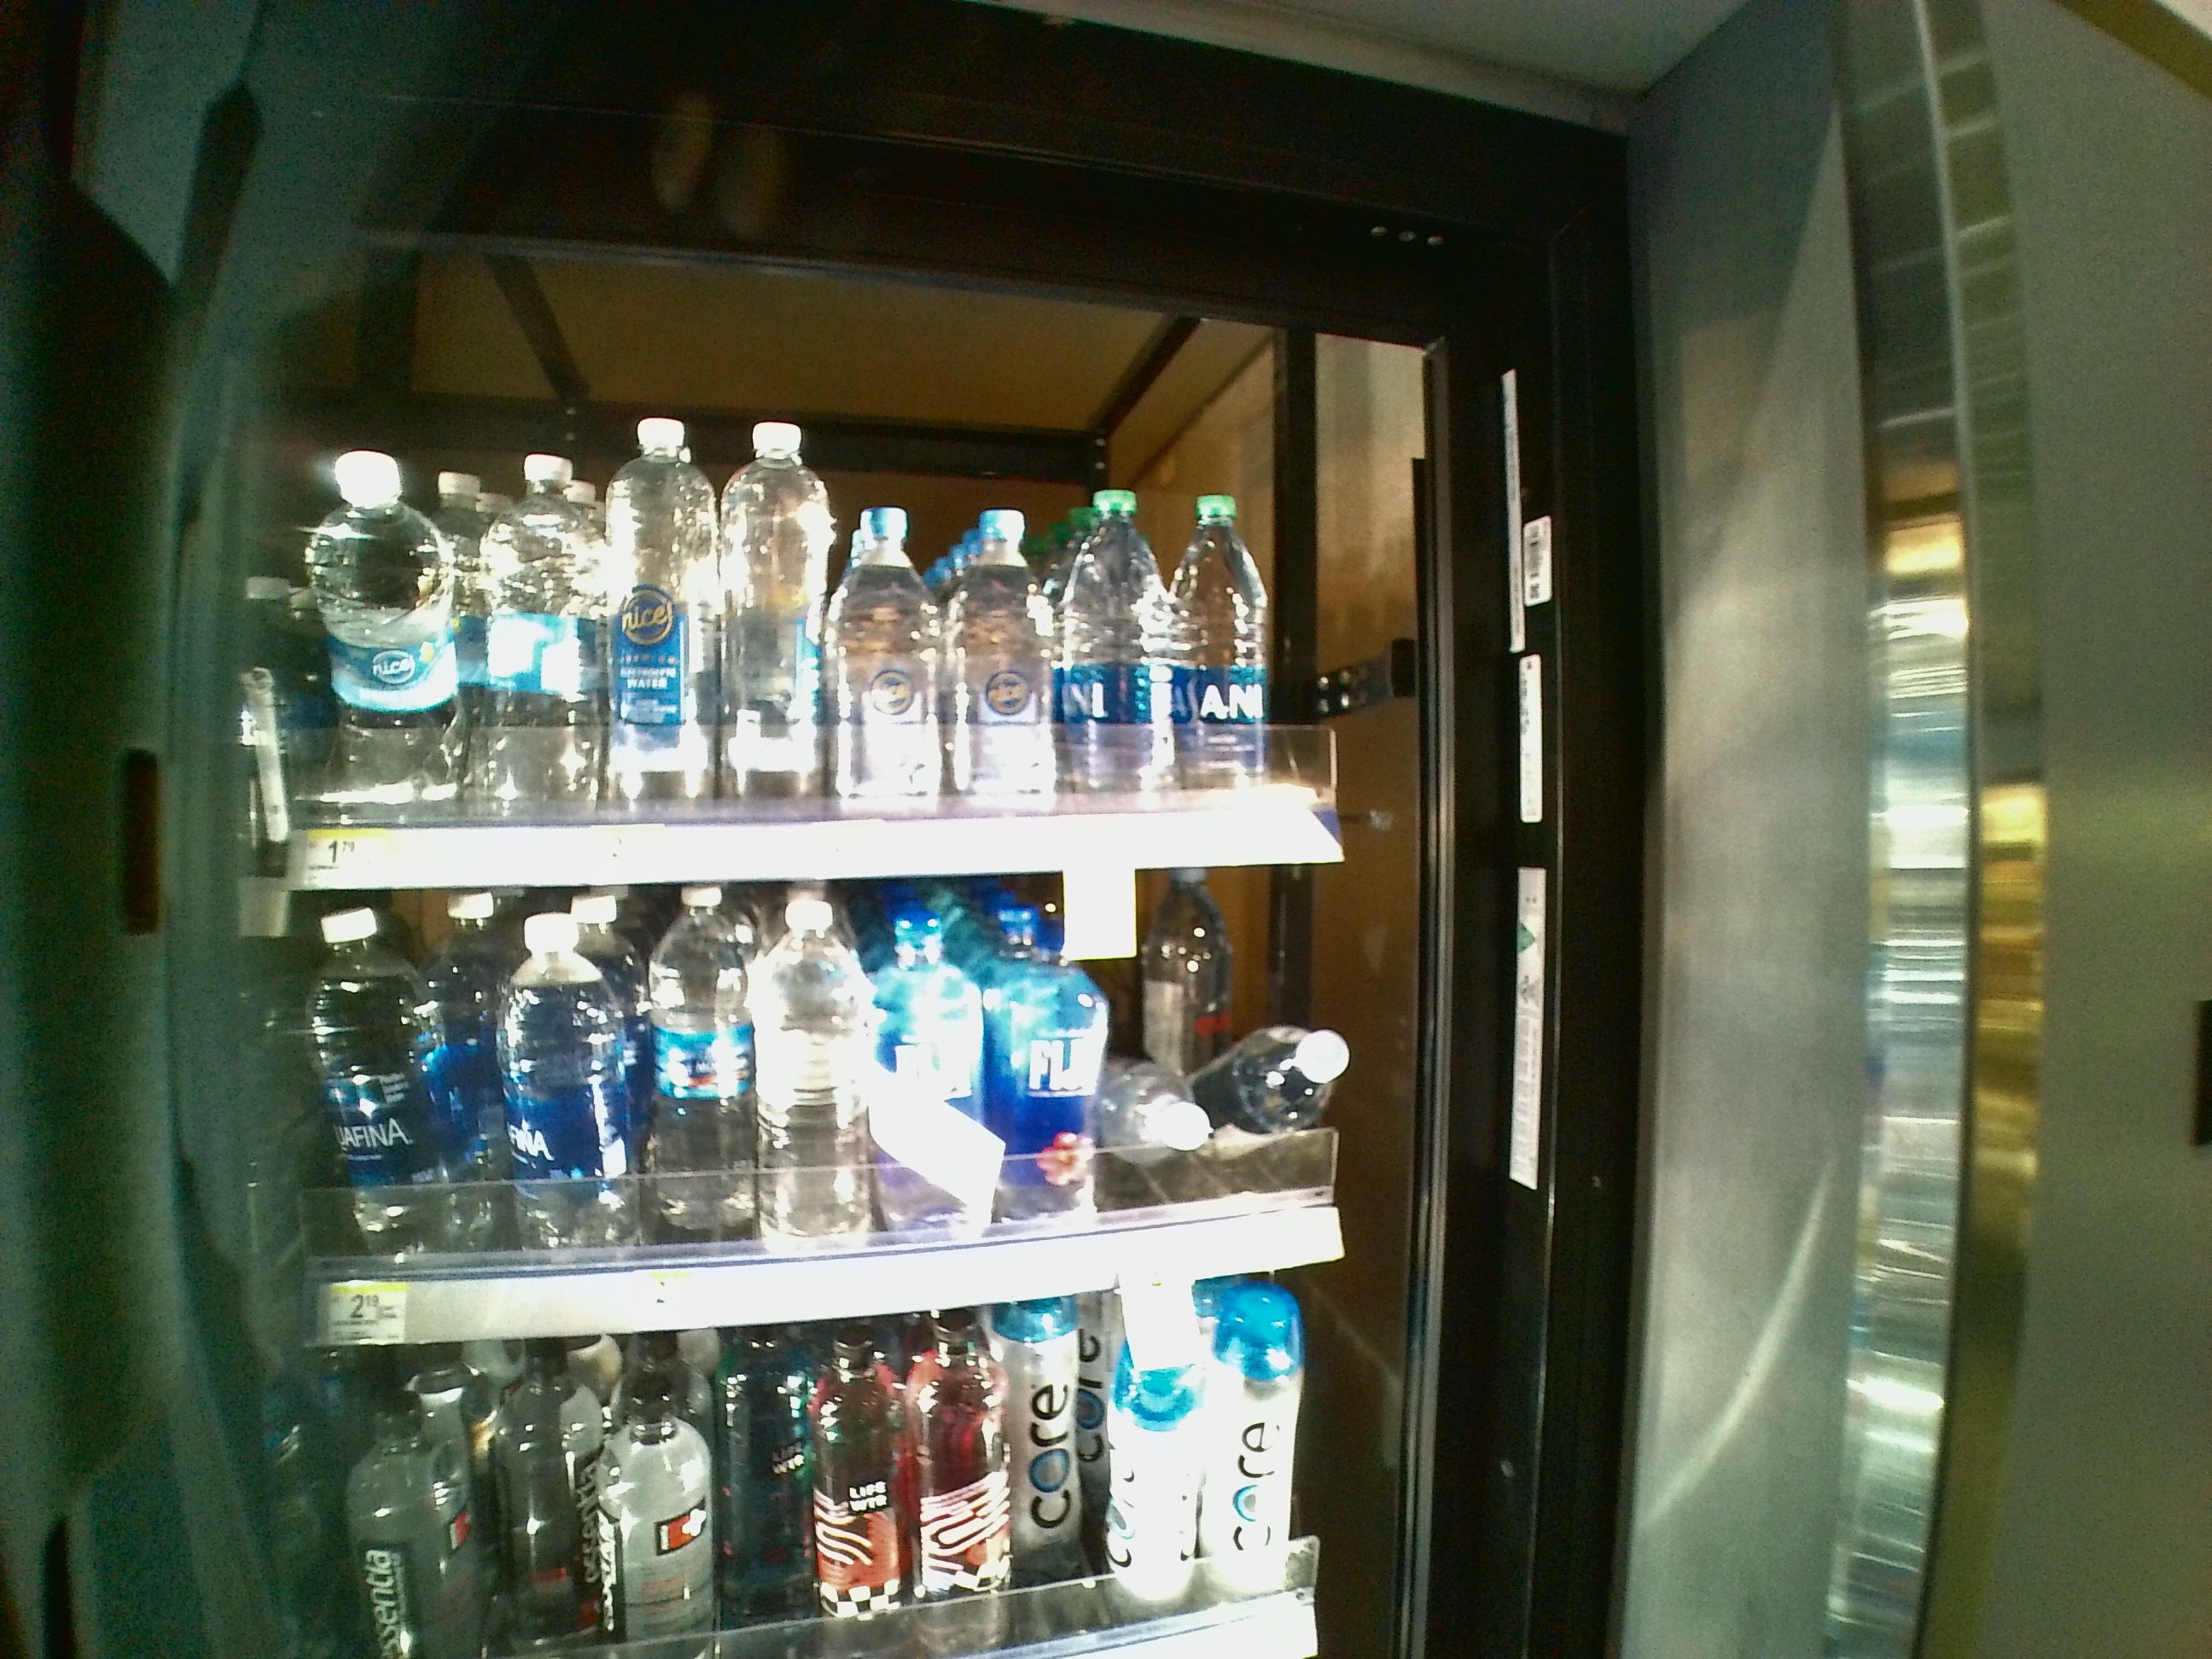shelf: (263, 385, 1385, 897), (254, 894, 1400, 1345)
